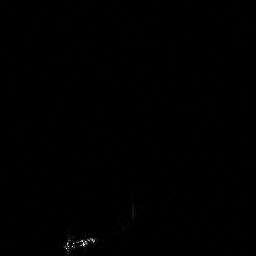ship: (60, 233, 97, 254)
